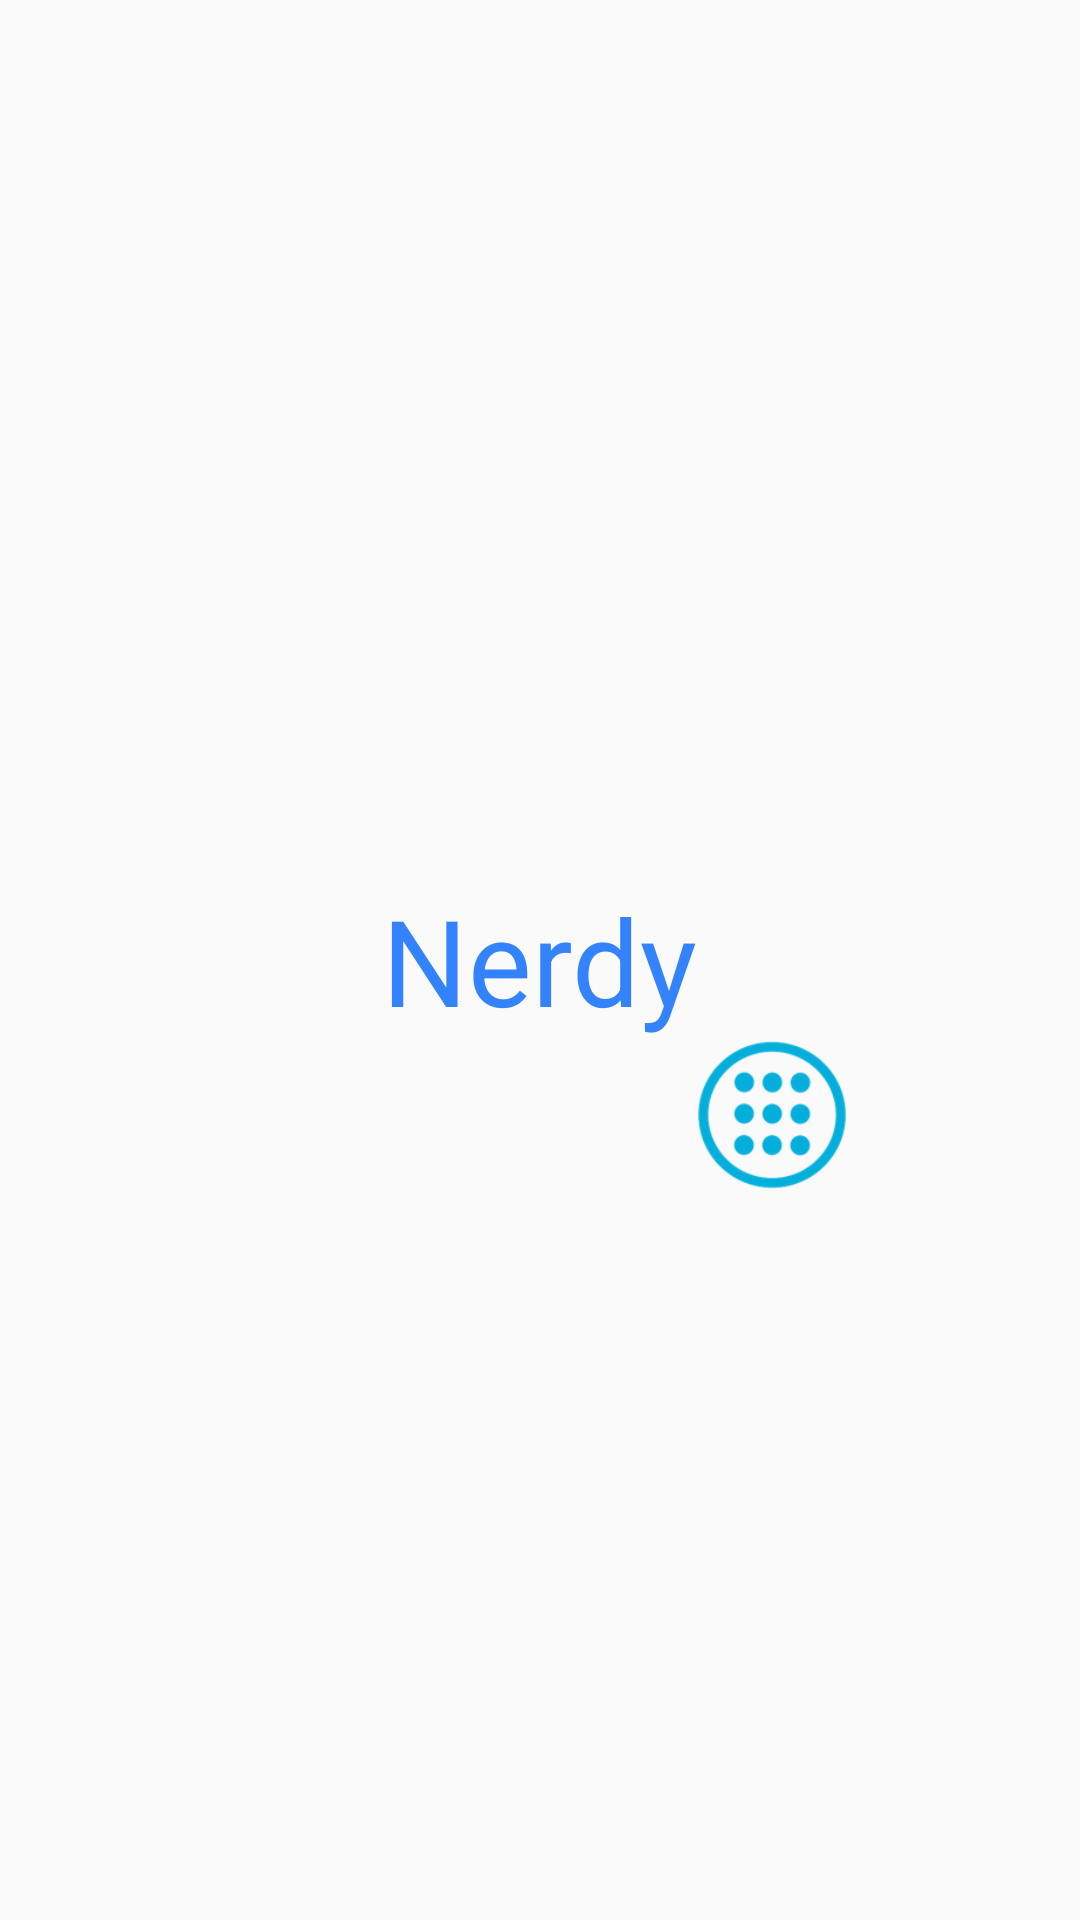

Screen size 1080w x 1920h. Icon name, then its box in pixels as box(x1, y1, x2, y2):
apps: box(698, 1041, 846, 1188)
